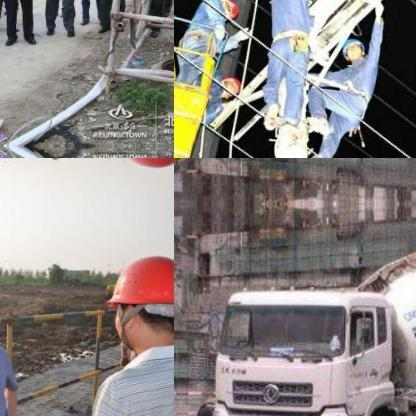Helmet: (98, 249, 173, 354), (97, 158, 173, 173), (216, 70, 244, 96), (339, 35, 365, 59), (215, 0, 239, 20)
